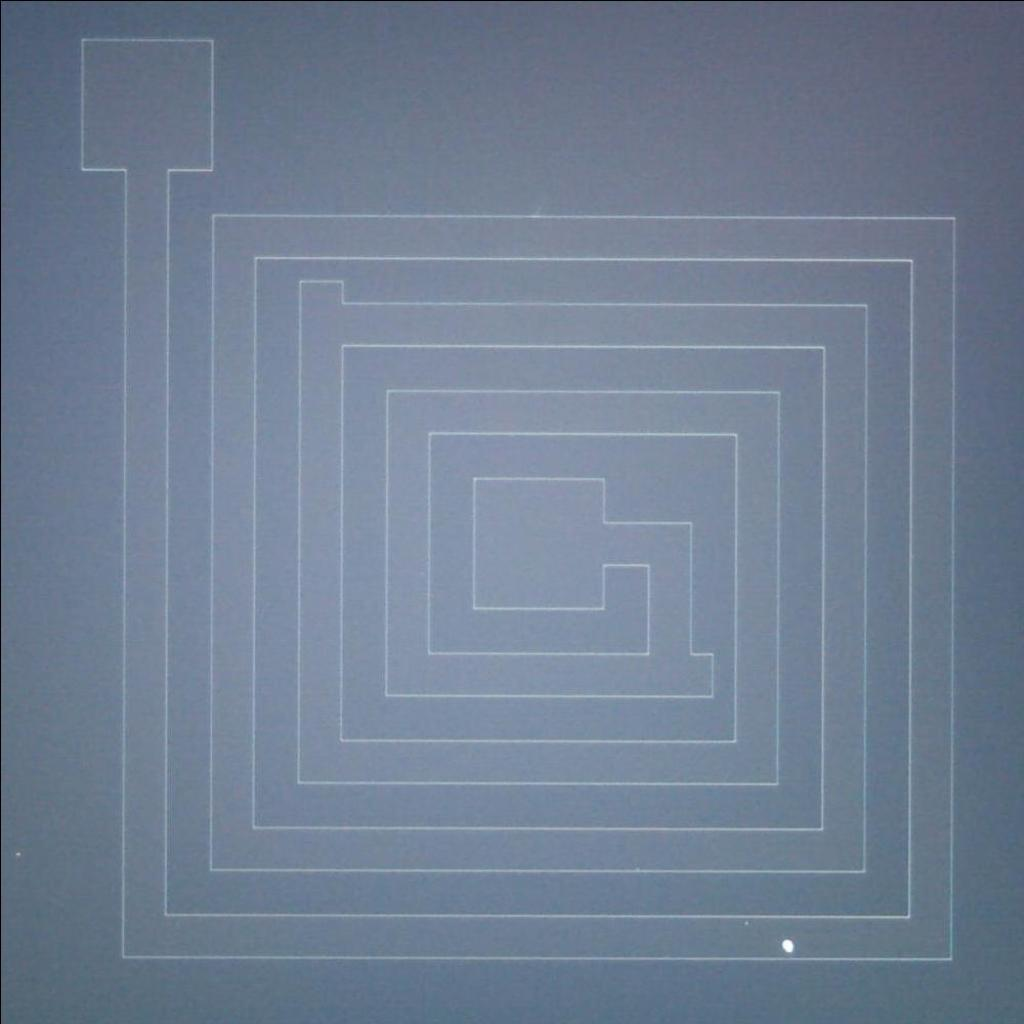budge circuit: (286, 271, 372, 316), (678, 637, 722, 708)
spot: (775, 929, 800, 956)
